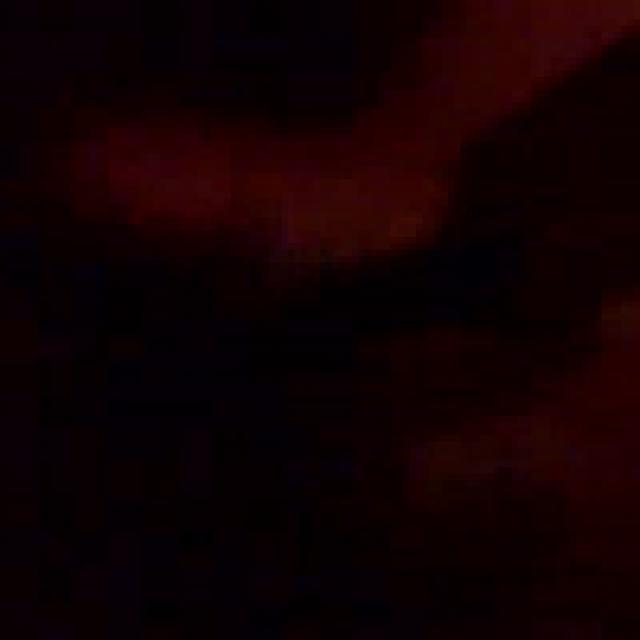Knife_Handle: (106, 221, 560, 477)
